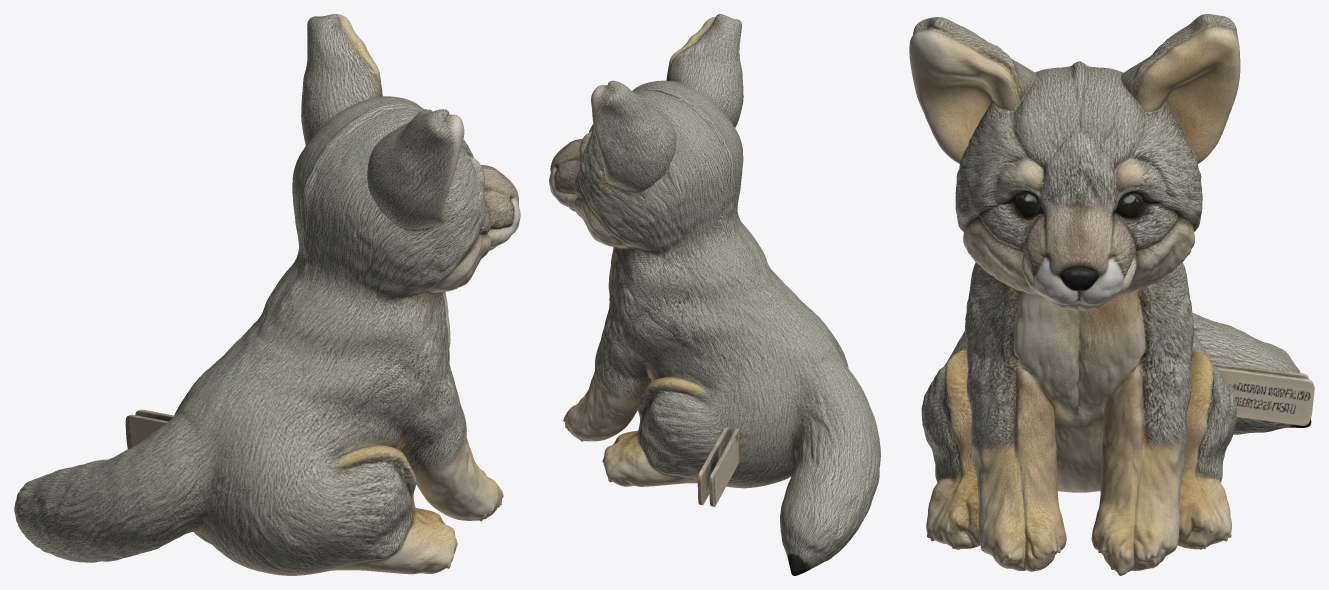
Rendered from peluche_de_pequeno_de_zorro_costero.glb.
The picture shows the model from 3 angles, left to right: view 1: azimuth 30°, elevation 25°; view 2: azimuth 150°, elevation 25°; view 3: azimuth 270°, elevation 25°; orthographic projection. The views are drawn at different scales.
Visible parts, largest first — view 1: tripo_node_72c524dc-61cc-4b87-a295-133f073bbb47; view 2: tripo_node_72c524dc-61cc-4b87-a295-133f073bbb47; view 3: tripo_node_72c524dc-61cc-4b87-a295-133f073bbb47.
Part boxes in pixels (box(x1,y1,x2,y2)): tripo_node_72c524dc-61cc-4b87-a295-133f073bbb47: box(14, 14, 520, 575); tripo_node_72c524dc-61cc-4b87-a295-133f073bbb47: box(549, 14, 880, 575); tripo_node_72c524dc-61cc-4b87-a295-133f073bbb47: box(909, 14, 1314, 575).
Bounding box in the file's own units: 29475 × 32767 × 21758.
Materials: 1 (1 with a texture image).
